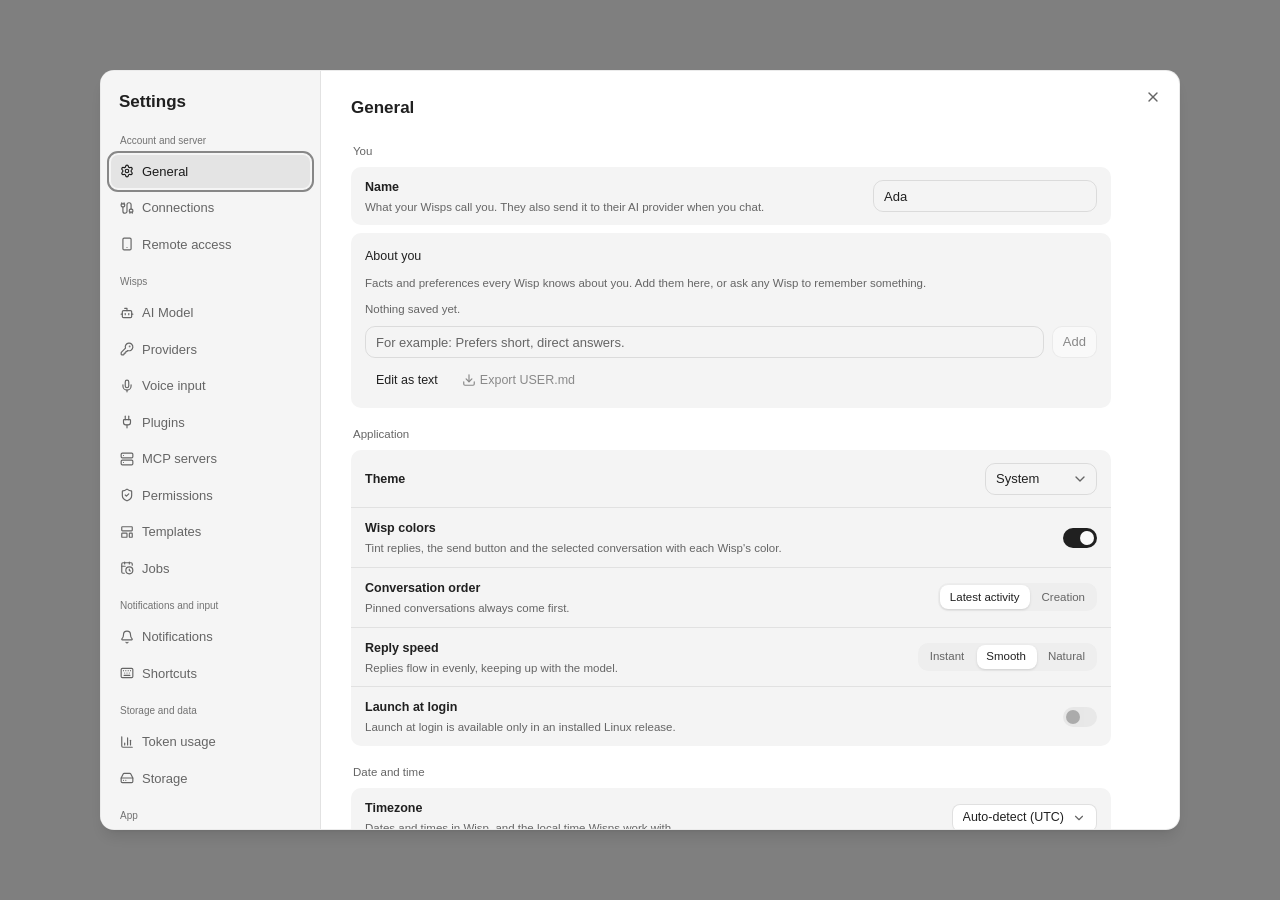
it: AppSettingsDialog metadata › opens MCP servers as its own panel and loads connections lazily
This screenshot has width=1280, height=900.
Click the button "MCP servers": click(210, 459) [111,442,310,476]
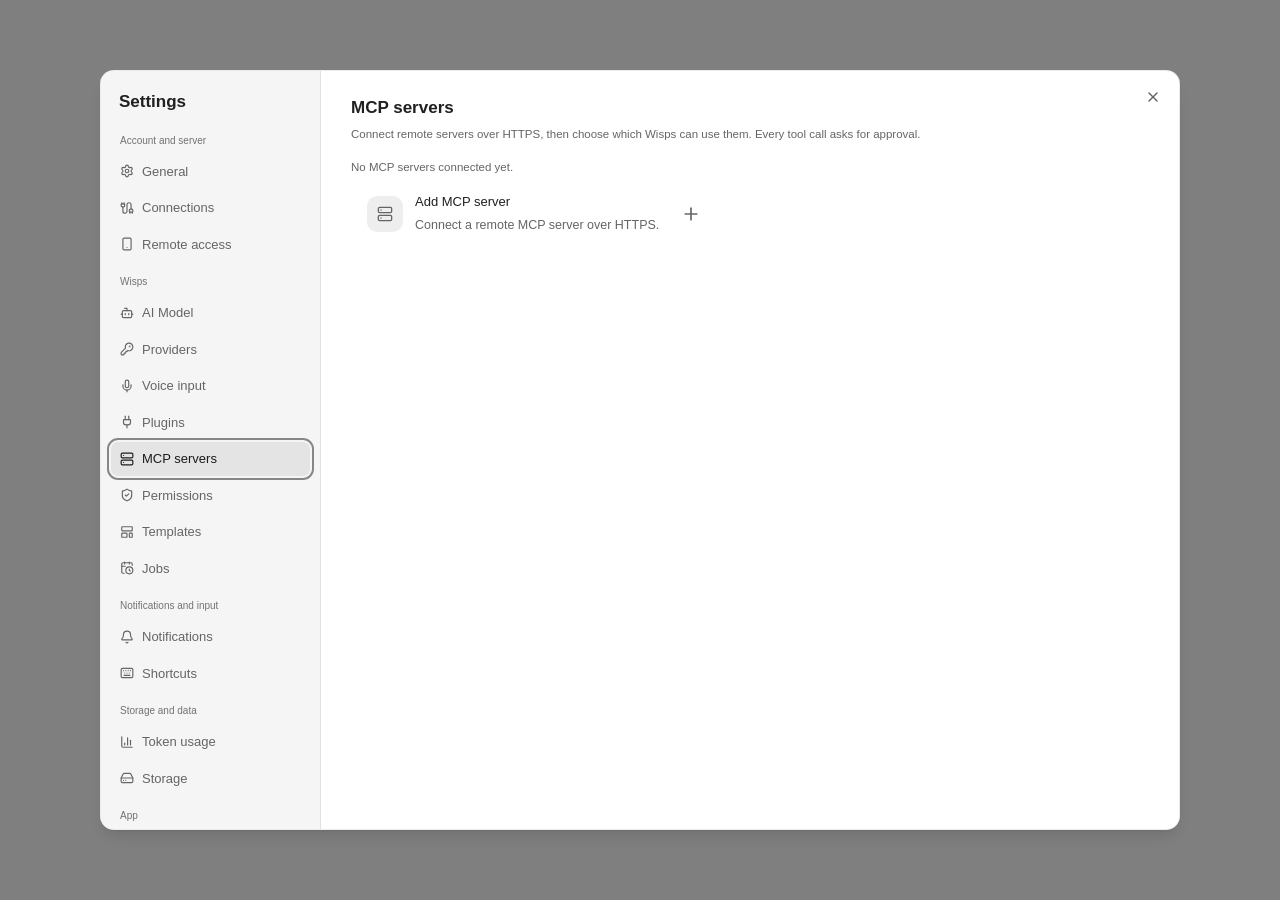
Now the text "No MCP servers connected yet." is shown, box [351,161,513,173]
